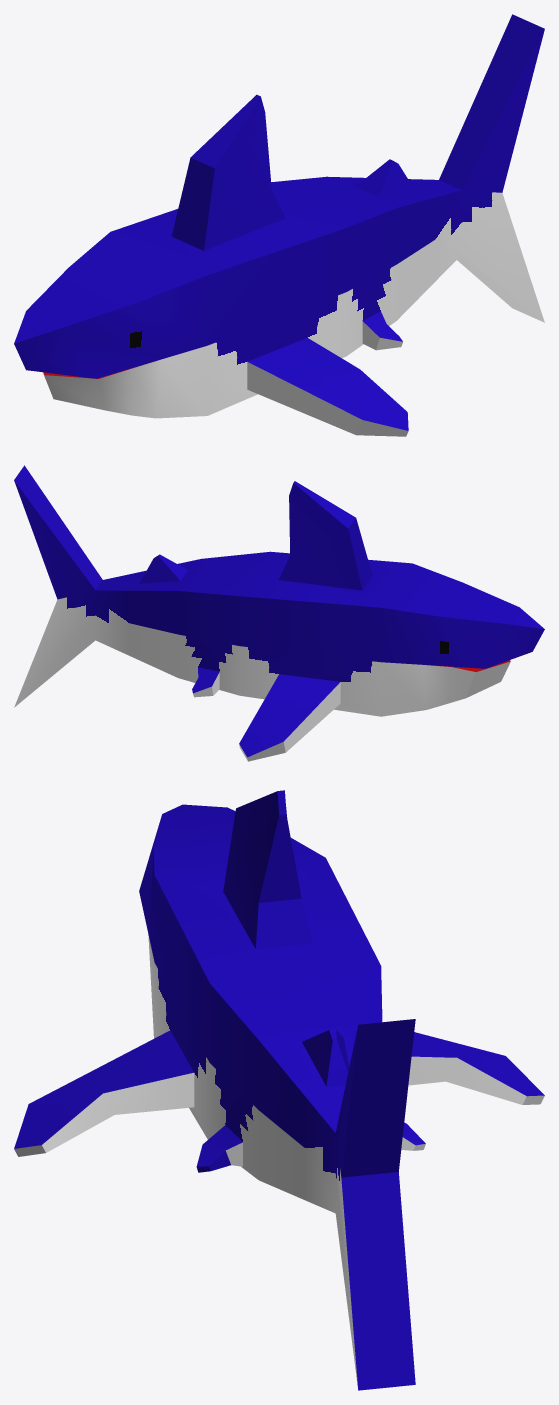
The model's file is PP_SHARK.fbx.
3 views of the same model, one above another, from view 1: azimuth 30°, elevation 25°; view 2: azimuth 150°, elevation 25°; view 3: azimuth 270°, elevation 25° (orthographic). The views are drawn at different scales.
Visible parts, largest first — view 1: Sbark; view 2: Sbark; view 3: Sbark.
Part boxes in pixels (x1=…): Sbark: x1=14, y1=14, x2=544, y2=436; Sbark: x1=14, y1=465, x2=544, y2=761; Sbark: x1=14, y1=790, x2=544, y2=1390.
Size of the model in its own units: 817 by 425 by 502.
